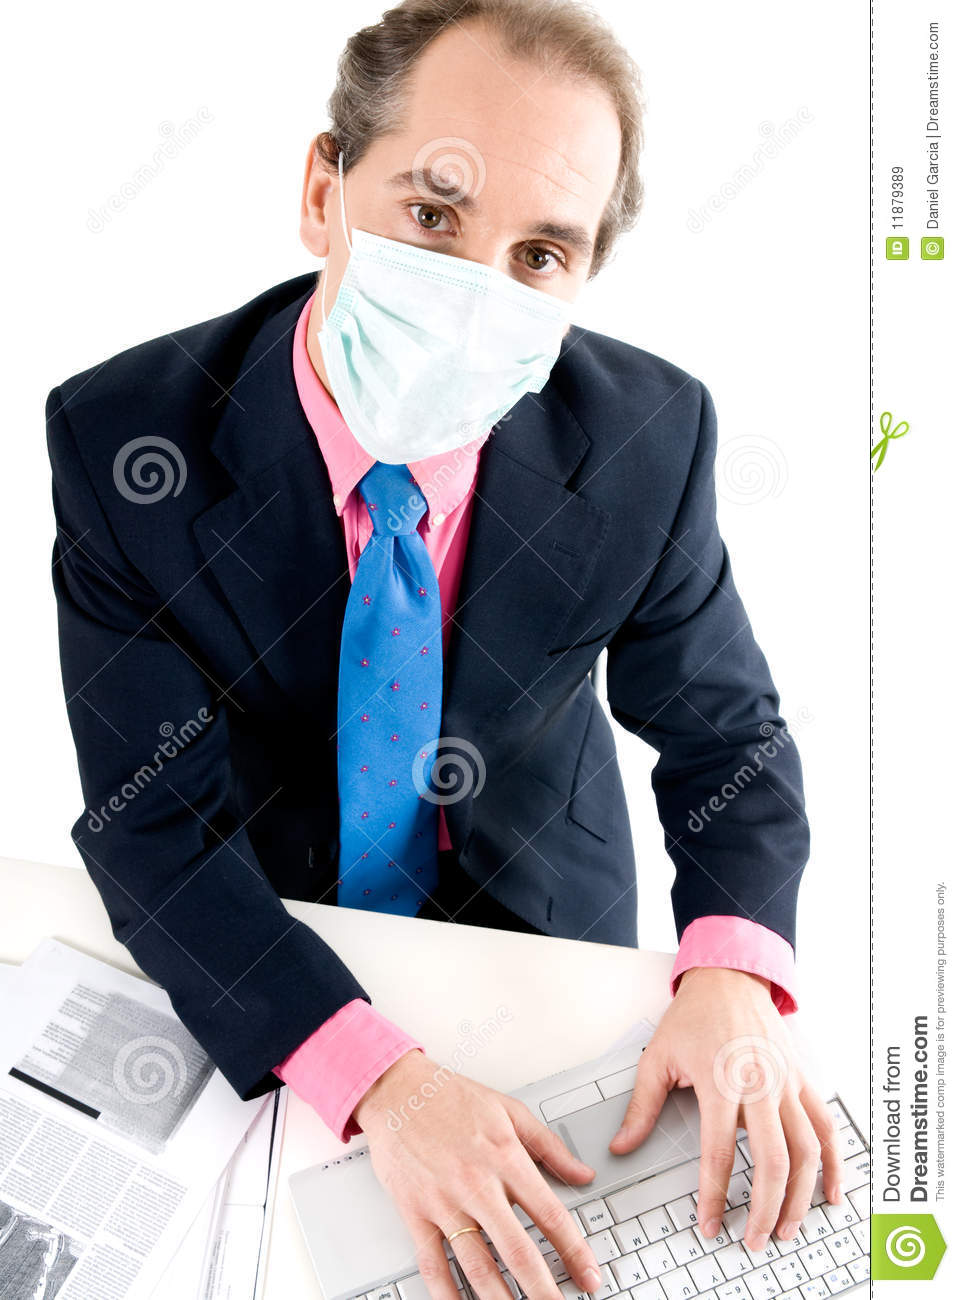mask: (307, 224, 570, 470)
